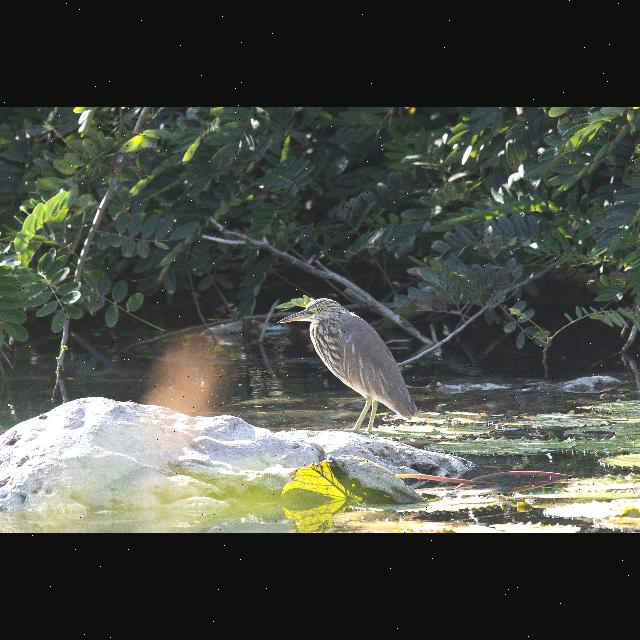heron: (274, 292, 431, 443)
